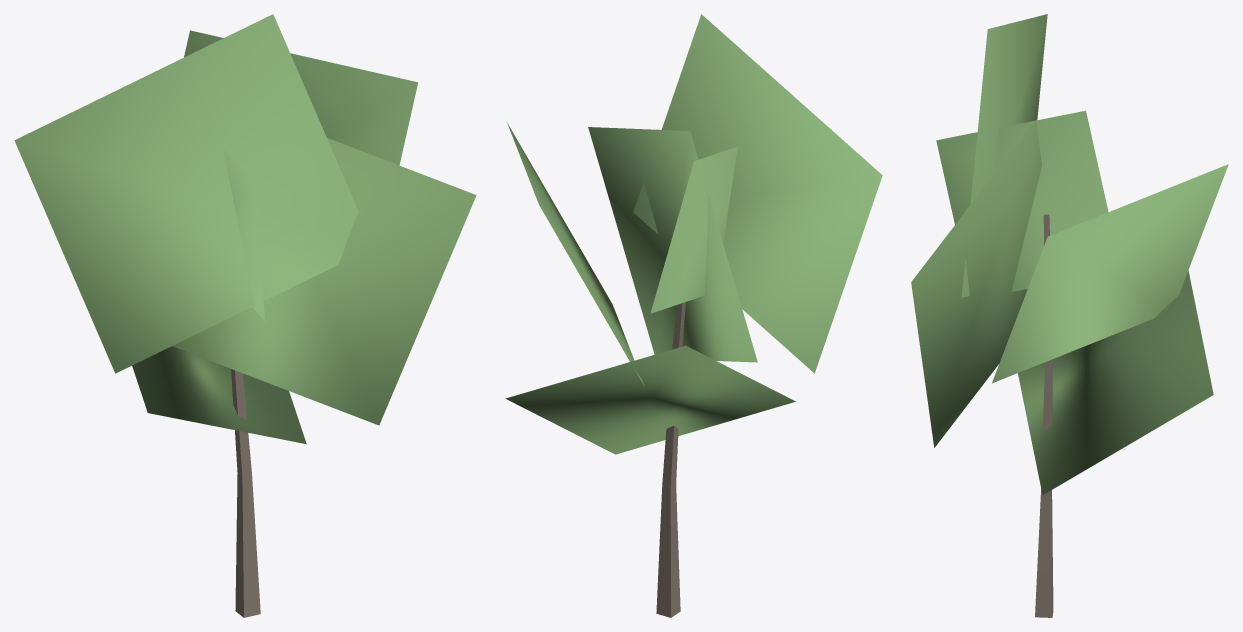
Rendered from tree_sapling_a_lod2.glb.
The picture shows the model from 3 angles, left to right: view 1: azimuth 30°, elevation 25°; view 2: azimuth 150°, elevation 25°; view 3: azimuth 270°, elevation 25°; orthographic projection. The views are drawn at different scales.
Visible parts, largest first — view 1: tree_sapling_a_lod2; view 2: tree_sapling_a_lod2; view 3: tree_sapling_a_lod2.
Boxes of the visible parts, x1,y1,x2,y2 form: tree_sapling_a_lod2: (14, 14, 476, 617); tree_sapling_a_lod2: (505, 14, 882, 617); tree_sapling_a_lod2: (911, 14, 1228, 617).
Bounding box in the file's own units: 3.42 × 5.03 × 2.49.
